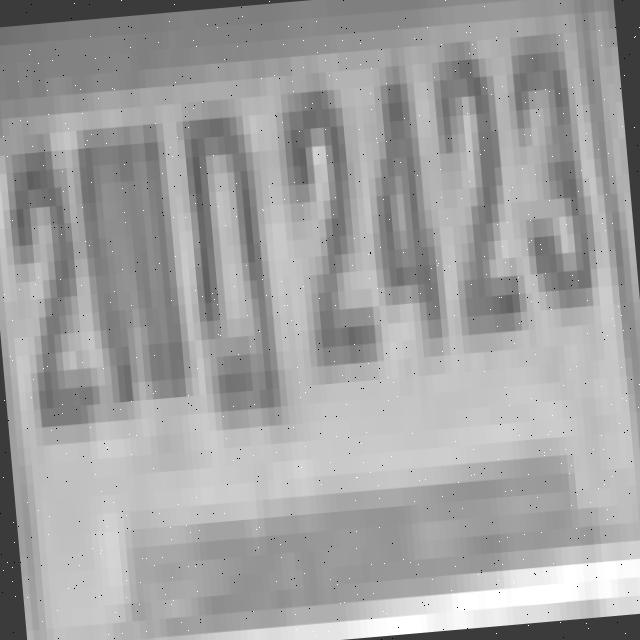2: (414, 20, 522, 337), (272, 70, 377, 368), (0, 131, 95, 429)
22YorYing: (68, 104, 194, 423)
23DorChaDa: (165, 78, 288, 414)
3: (496, 32, 593, 312)
4: (352, 63, 451, 361)
